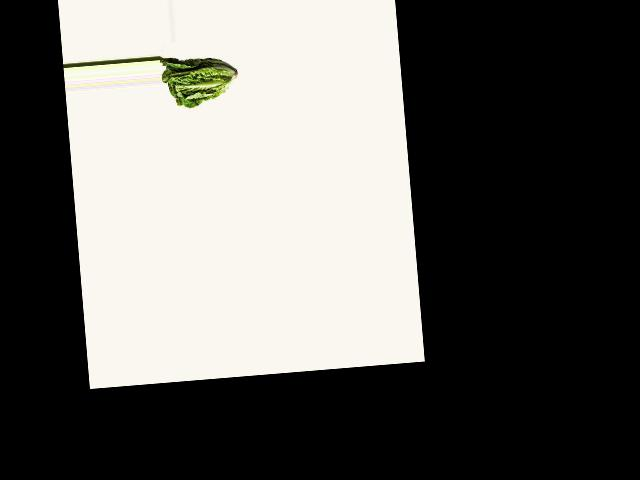lettuce: (160, 52, 238, 112)
